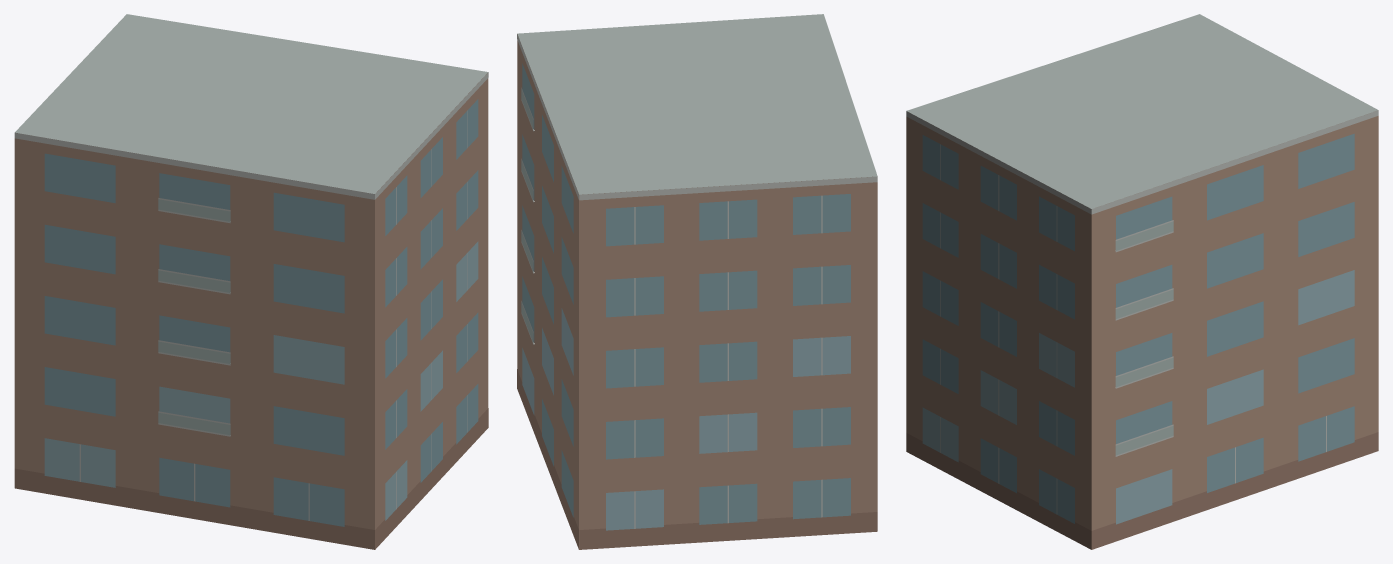
Rendered from survey-upis-32765141.glb.
3 views of the same model, side by side, from view 1: azimuth 30°, elevation 25°; view 2: azimuth 150°, elevation 25°; view 3: azimuth 270°, elevation 25° (orthographic). The views are drawn at different scales.
Visible parts, largest first — view 1: survey-upis-32765141.tmp; view 2: survey-upis-32765141.tmp; view 3: survey-upis-32765141.tmp.
Part boxes in pixels (box(x1,y1,x2,y2)): survey-upis-32765141.tmp: box(14, 14, 488, 549); survey-upis-32765141.tmp: box(517, 14, 877, 549); survey-upis-32765141.tmp: box(906, 14, 1378, 549).
Bounding box in the file's own units: 18.49 × 15.05 × 18.92.
